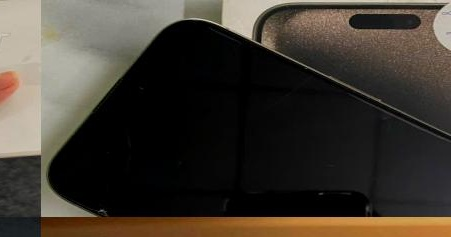physical_damage: (62, 33, 451, 99), (71, 97, 138, 217), (366, 99, 414, 137)
